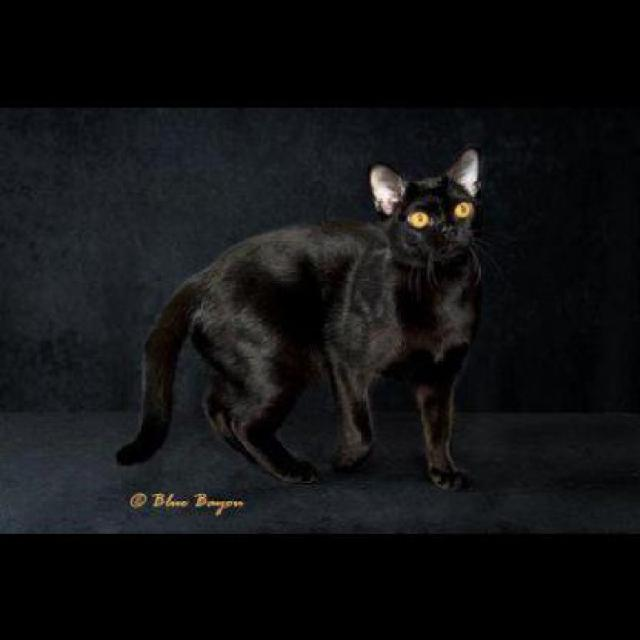unauthorized: (114, 145, 492, 492)
